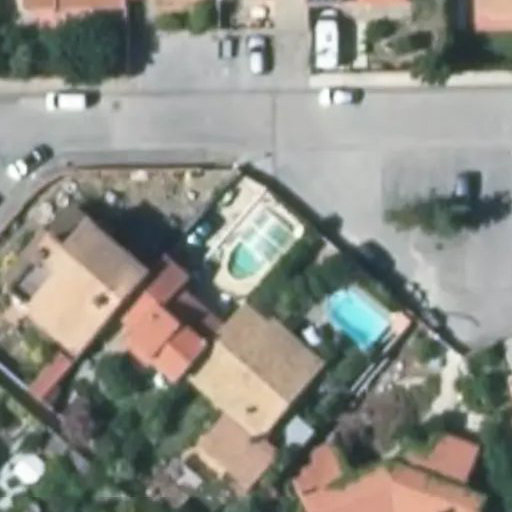pool: (229, 211, 295, 279), (323, 287, 390, 352)
